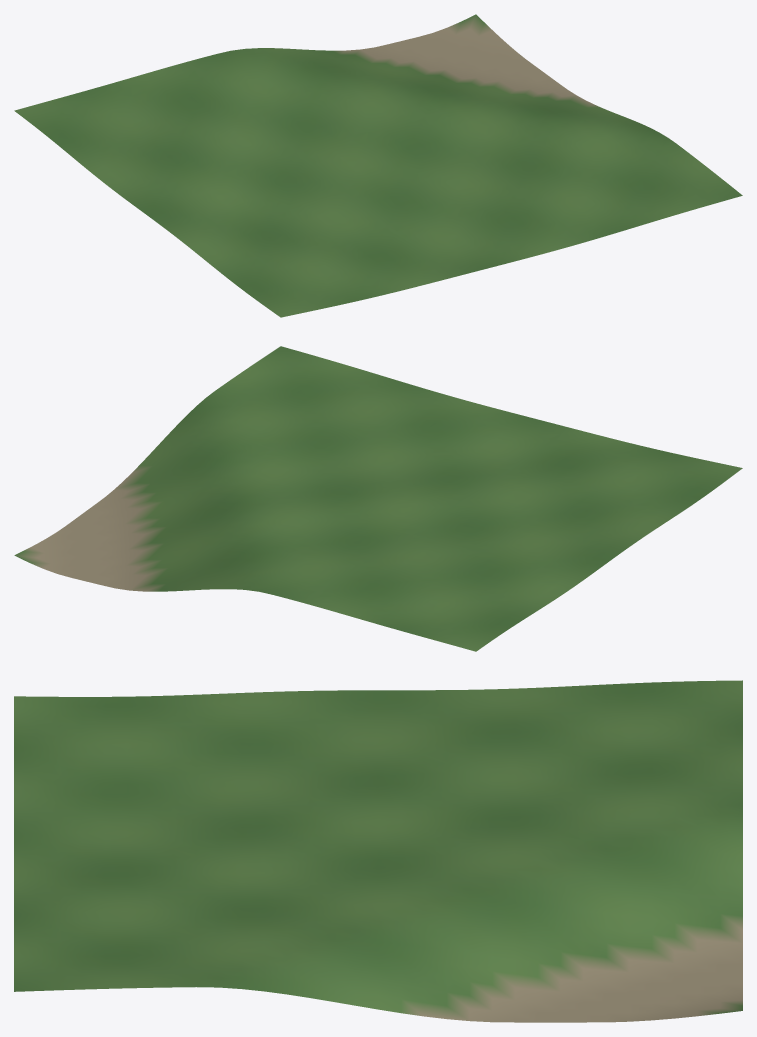
The model's file is chunk_3_5.glb.
3 renders of one model, top to bottom at view 1: azimuth 30°, elevation 25°; view 2: azimuth 150°, elevation 25°; view 3: azimuth 270°, elevation 25°, orthographic. The views are drawn at different scales.
Size of the model in its own units: 512 by 34.03 by 512.
